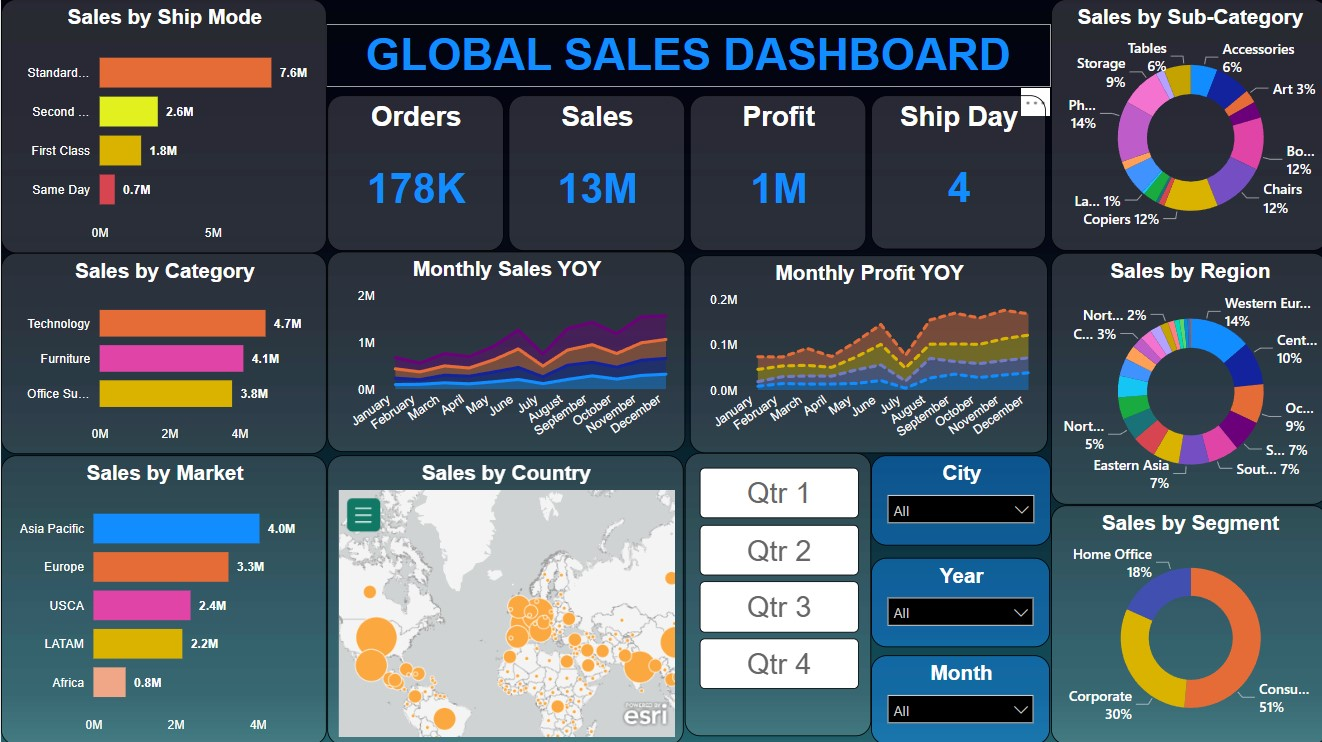

The page's visual inventory and layout, read from the dashboard file:
{"tool":"powerbi","page":{"name":"Sales Dashboard","canvas":[1280,720],"ordinal":0},"visuals":[{"type":"textbox","box":[313.6,24.1,699.5,60.3],"z":0},{"type":"clusteredBarChart","title":"Sales by Ship Mode","fields":{"Y":["Sum(Orders.Sales)"],"Category":["Orders.Ship Mode"]},"box":[0,0,314.7,245.3],"z":1000},{"type":"clusteredBarChart","title":"Sales by Category","fields":{"Y":["Sum(Orders.Sales)"],"Category":["Orders.Category"]},"box":[0,245.3,314.7,194.7],"z":2000},{"type":"clusteredBarChart","title":"Sales by Market","fields":{"Y":["Sum(Orders.Sales)"],"Category":["Orders.Market"]},"box":[0,440,314.7,280],"z":3000},{"type":"stackedAreaChart","title":"Monthly Sales YOY","fields":{"Y":["Sum(Orders.Sales)"],"Category":["Orders.Order Date.Variation.Date Hierarchy.Month"],"Series":["Orders.Order Date.Variation.Date Hierarchy.Year"]},"box":[314.4,244.2,345.3,193.7],"z":4000},{"type":"stackedAreaChart","title":"Monthly Profit YOY","fields":{"Category":["Orders.Order Date.Variation.Date Hierarchy.Month"],"Series":["Orders.Order Date.Variation.Date Hierarchy.Year"],"Y":["Sum(Orders.Profit)"]},"box":[665.3,247,345.3,190.9],"z":5000},{"type":"donutChart","title":"Sales by Segment","fields":{"Category":["Orders.Segment"],"Y":["Sum(Orders.Sales)"]},"box":[1013.1,488.4,267.3,231.2],"z":6000},{"type":"donutChart","title":"Sales by Region","fields":{"Category":["Orders.Region"],"Y":["Sum(Orders.Sales)"]},"box":[1013.1,245.2,267.3,243.2],"z":7000},{"type":"donutChart","title":"Sales by Sub-Category","fields":{"Category":["Orders.Sub-Category"],"Y":["Sum(Orders.Sales)"]},"box":[1013.1,0,267.3,243.2],"z":8000},{"type":"card","title":"Orders","fields":{"Values":["Sum(Orders.Quantity)"]},"box":[314.4,92.6,170,150],"z":9000},{"type":"card","title":"Sales","fields":{"Values":["Sum(Orders.Sales)"]},"box":[489.4,92.5,170,150],"z":10000},{"type":"card","title":"Profit","fields":{"Values":["Sum(Orders.Profit)"]},"box":[664.3,92.6,170,150],"z":11000},{"type":"card","title":"Ship Day","fields":{"Values":["Avg(Orders.AVG DeliveryDays)"]},"box":[839.3,92.6,168.4,148.8],"z":12000},{"type":"slicer","title":"Year","fields":{"Values":["Orders.Order Date.Variation.Date Hierarchy.Year"]},"box":[840.2,538.7,172.9,86.4],"z":13000},{"type":"slicer","title":"City","fields":{"Values":["Orders.City"]},"box":[839.7,440.4,173.7,86.9],"z":14000},{"type":"slicer","title":"Month","fields":{"Values":["Orders.Order Date.Variation.Date Hierarchy.Month"]},"box":[840.2,633.2,172.9,86.4],"z":15000},{"type":"ChicletSlicer1448559807354","fields":{"Category":["Orders.Order Date.Variation.Date Hierarchy.Quarter"]},"box":[659.9,437.9,179.8,273.9],"z":16000},{"type":"esriVisual","title":"Sales by Country","fields":{"Location":["Orders.Country"],"Size":["Sum(Orders.Sales)"]},"box":[315,440,344,280],"z":17000}]}

Visuals, with their boxes in screenshot pixels (x1, y1, x2, y2), scaled from the page's 1280x720 canvas onto the 1322x742 screenshot:
textbox: bbox=[324, 25, 1046, 87]
"Sales by Ship Mode" clusteredBarChart: bbox=[0, 0, 325, 253]
"Sales by Category" clusteredBarChart: bbox=[0, 253, 325, 453]
"Sales by Market" clusteredBarChart: bbox=[0, 453, 325, 741]
"Monthly Sales YOY" stackedAreaChart: bbox=[325, 252, 681, 451]
"Monthly Profit YOY" stackedAreaChart: bbox=[687, 255, 1044, 451]
"Sales by Segment" donutChart: bbox=[1046, 503, 1321, 741]
"Sales by Region" donutChart: bbox=[1046, 253, 1321, 503]
"Sales by Sub-Category" donutChart: bbox=[1046, 0, 1321, 251]
"Orders" card: bbox=[325, 95, 500, 250]
"Sales" card: bbox=[505, 95, 681, 250]
"Profit" card: bbox=[686, 95, 862, 250]
"Ship Day" card: bbox=[867, 95, 1041, 249]
"Year" slicer: bbox=[868, 555, 1046, 644]
"City" slicer: bbox=[867, 454, 1047, 543]
"Month" slicer: bbox=[868, 653, 1046, 741]
ChicletSlicer1448559807354 - Orders.Order Date.Variation.Date Hierarchy.Quarter: bbox=[682, 451, 867, 734]
"Sales by Country" esriVisual: bbox=[325, 453, 681, 741]
